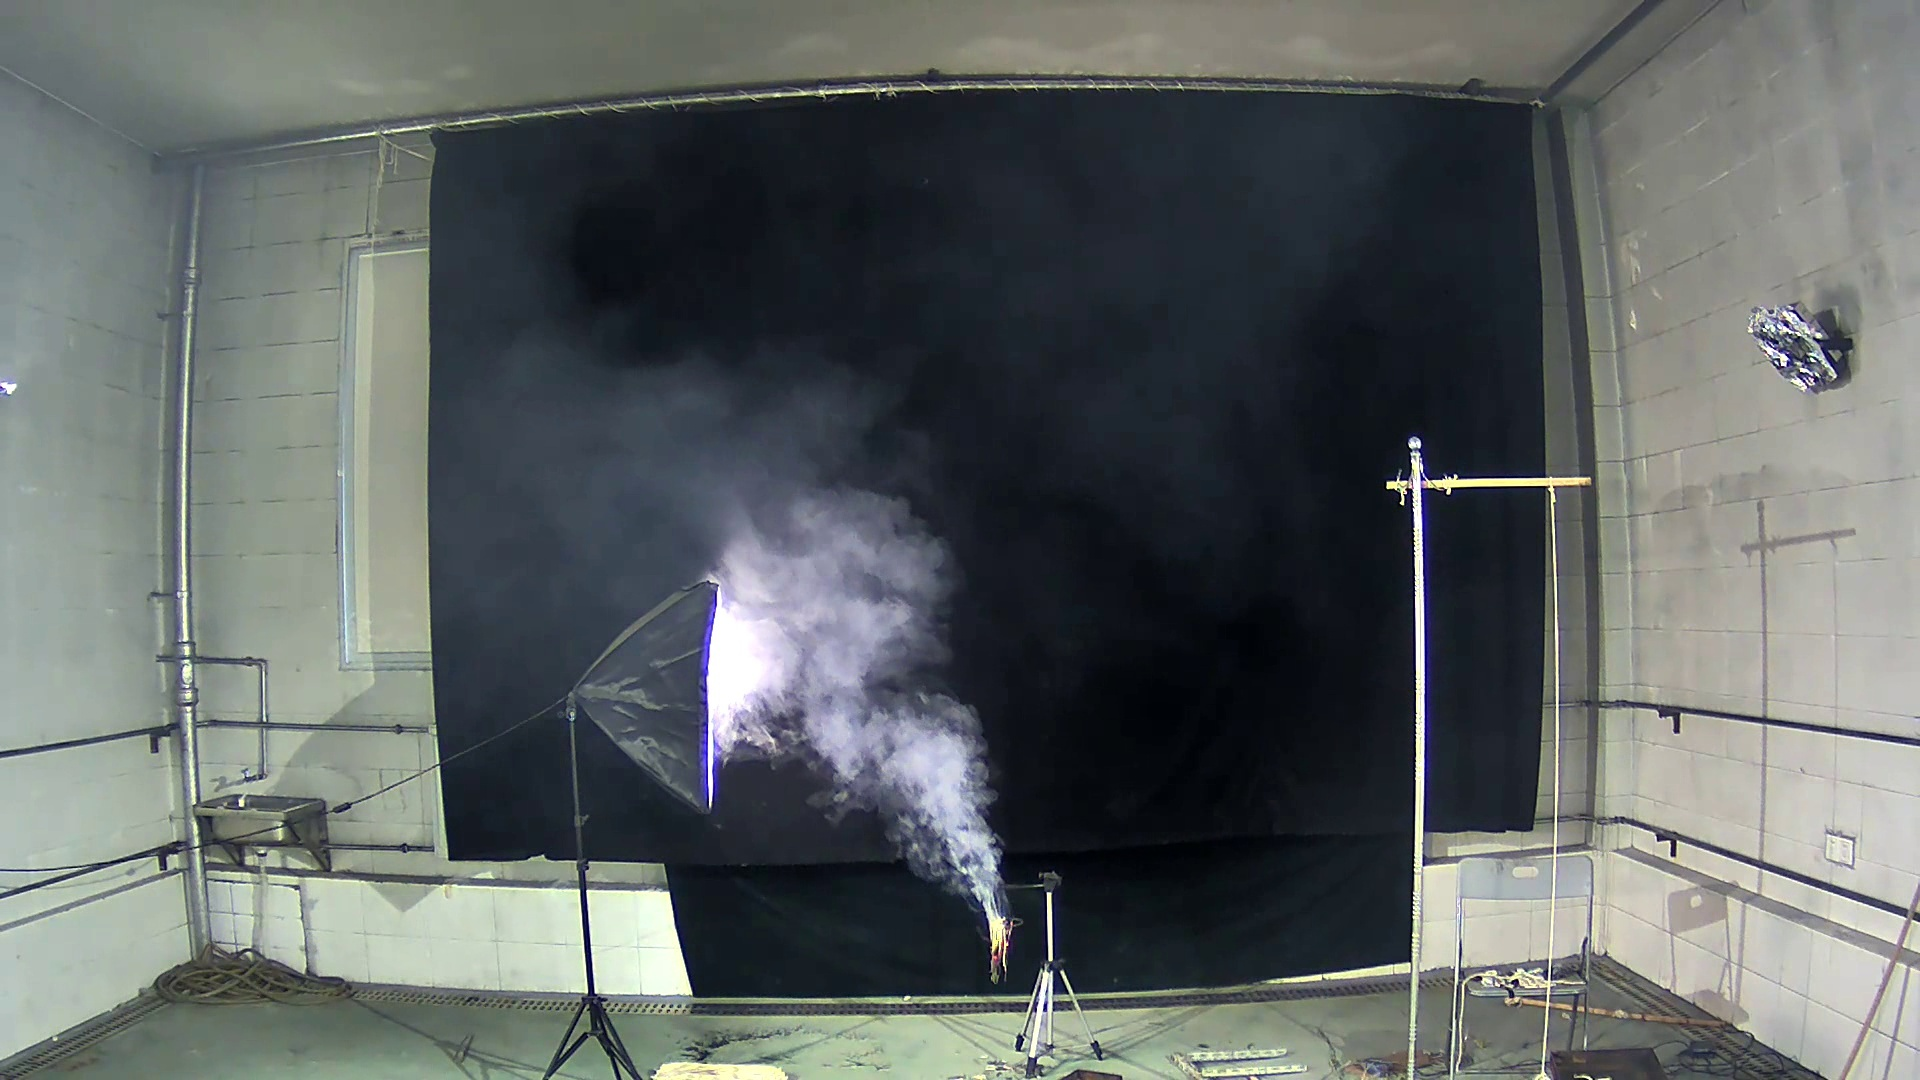smoke: (702, 353, 1023, 928)
